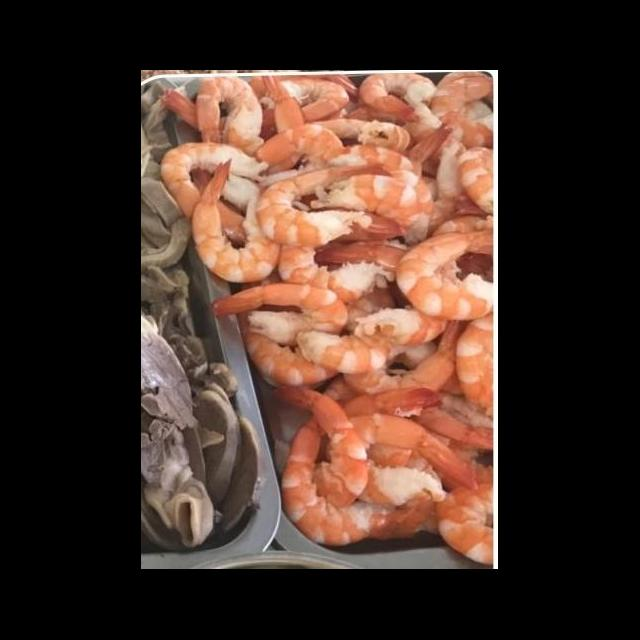tom: (278, 402, 396, 550), (304, 236, 454, 350), (332, 409, 487, 514), (182, 154, 288, 288), (270, 380, 376, 514), (250, 158, 386, 252), (156, 138, 270, 248), (344, 300, 466, 398), (210, 75, 310, 178), (210, 280, 354, 350), (392, 225, 494, 322), (296, 176, 428, 243), (192, 74, 266, 160), (290, 326, 396, 376), (356, 74, 441, 124)
